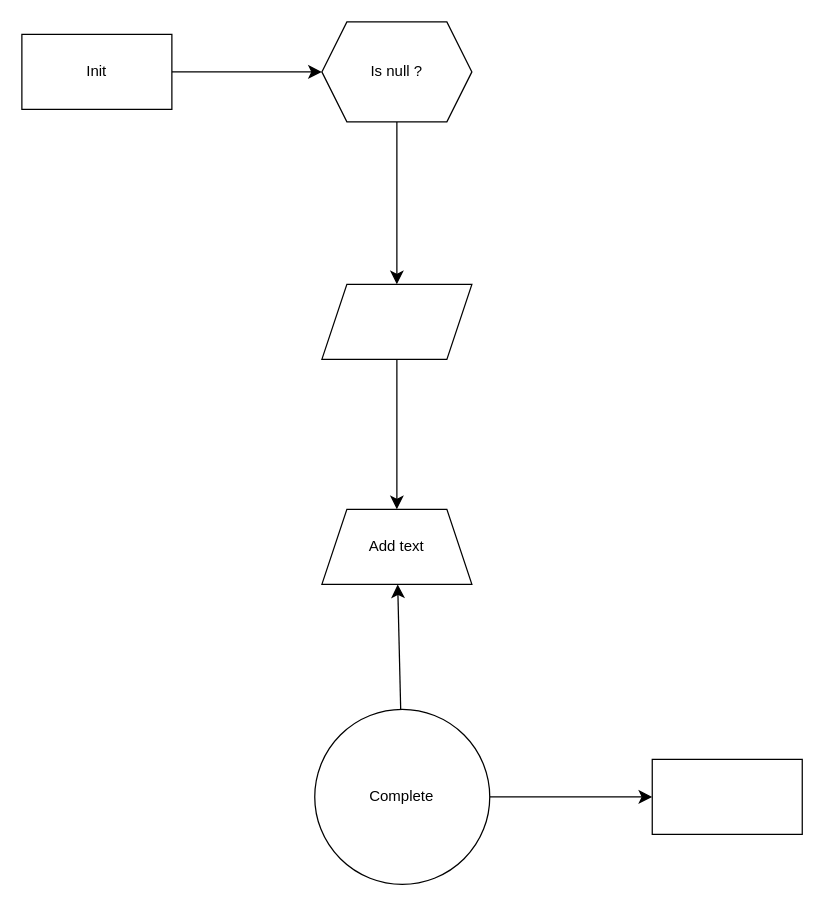
This 825x906 diagram has some shape labels left out. Each missing label, with the centre of its shape:
Done: the point at 726,796
Ok pr: the point at 396,321
